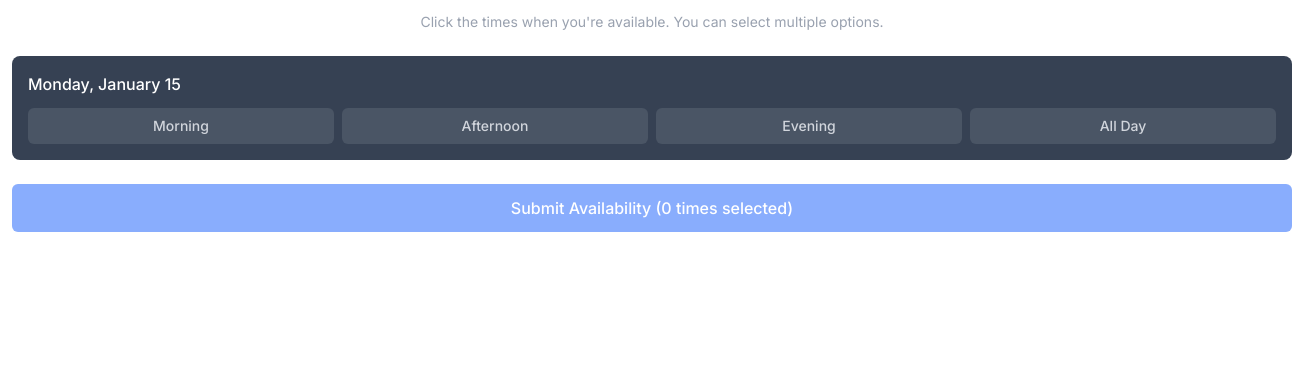
Test: AvailabilityForm › should show selected times count
# Select morning
What coordinates should you click on to do the following:
click the button "Morning"
I would click on:
 (181, 126)
Its box is left=28, top=108, right=334, bottom=144.
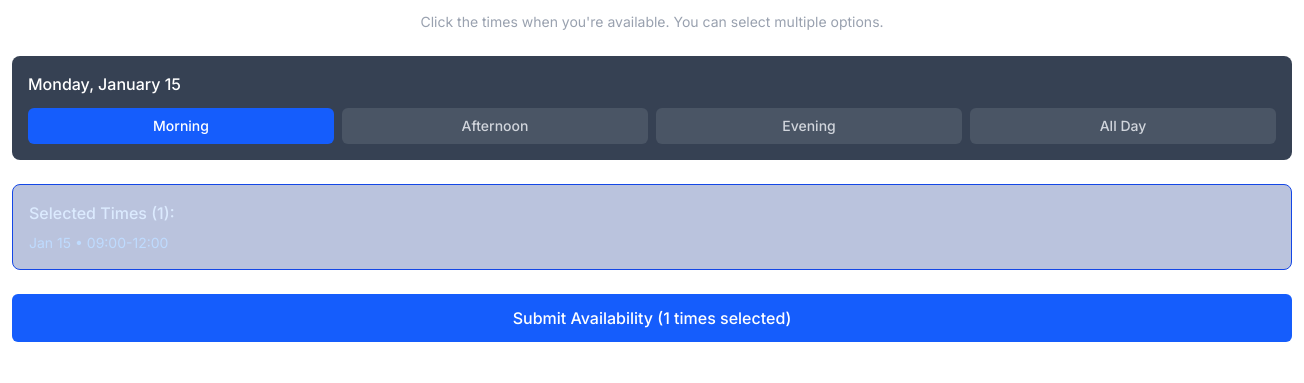
Check: the heading "Selected Times (1):" is shown, box left=29, top=203, right=174, bottom=223
# Select afternoon
What coordinates should you click on to do the following:
click the button "Afternoon"
I would click on:
 (495, 126)
Its box is left=342, top=108, right=648, bottom=144.
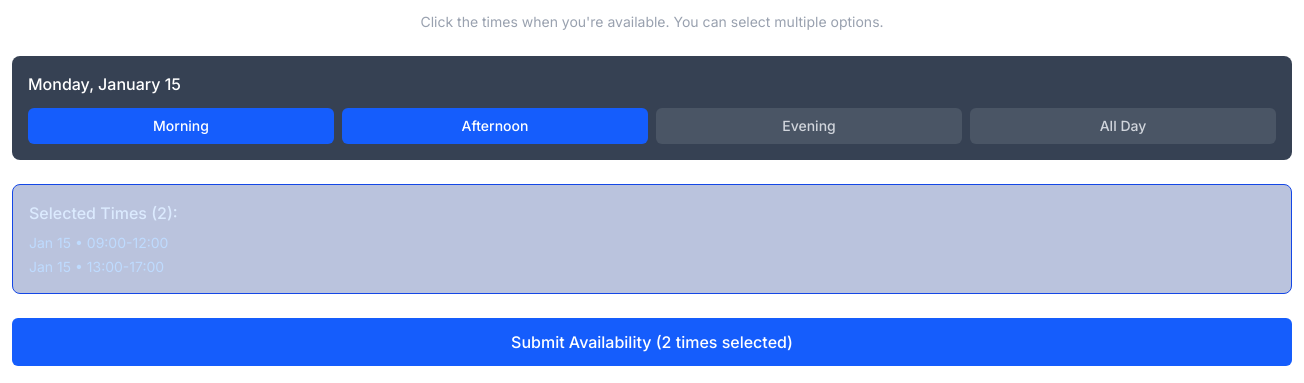
Check: the heading "Selected Times (2):" is shown, box left=29, top=203, right=178, bottom=223
